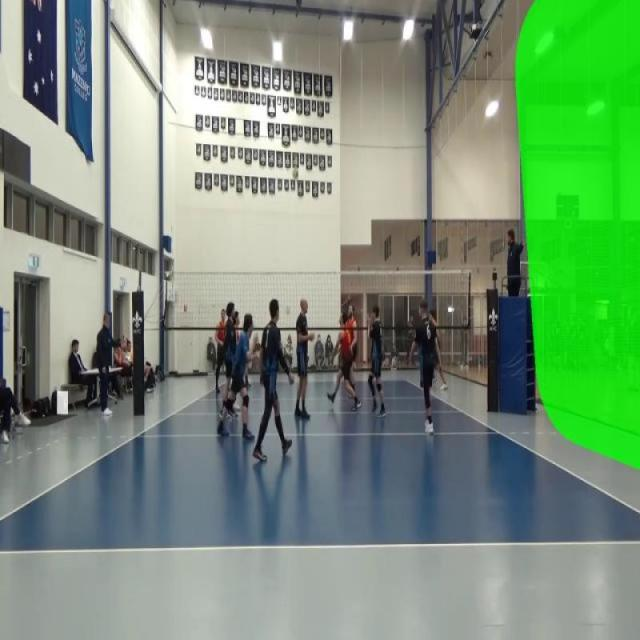volleyball: (292, 168, 299, 180)
